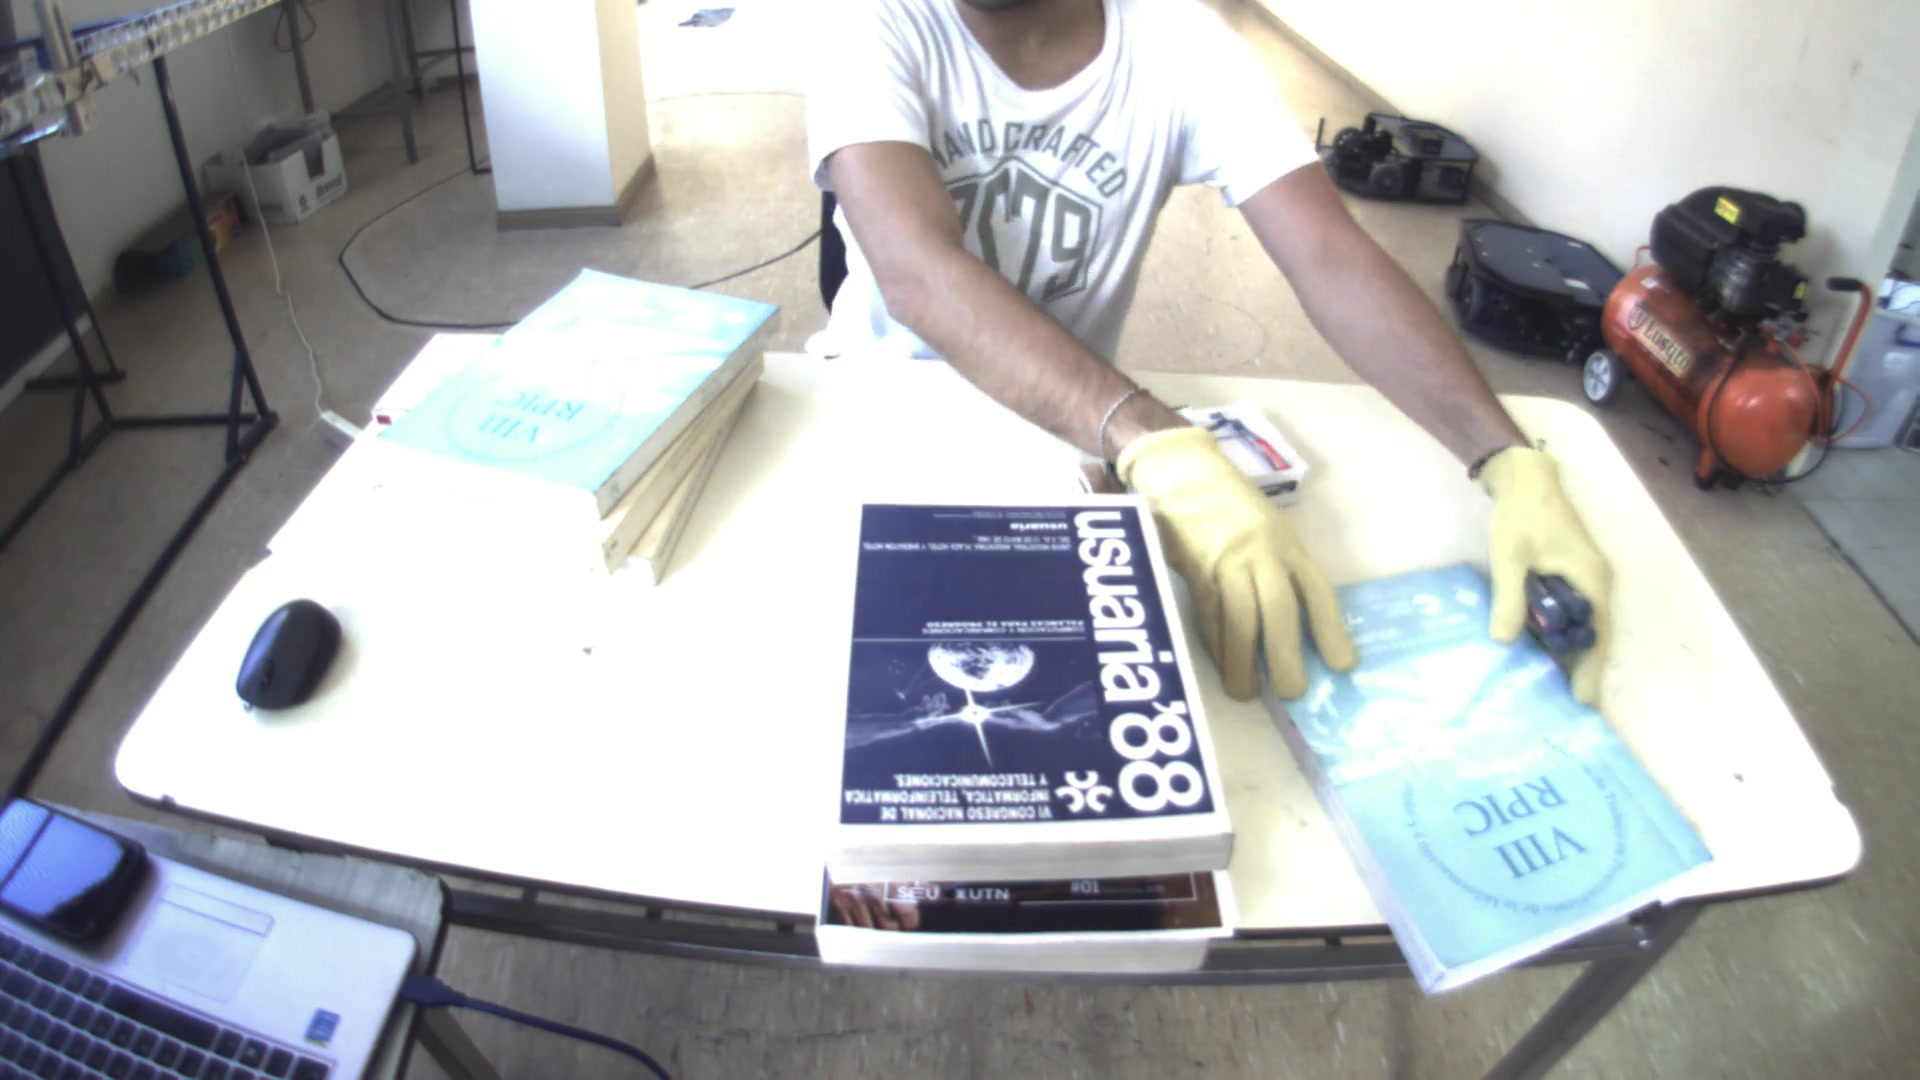hand: (1106, 415, 1374, 704), (1472, 442, 1627, 708)
